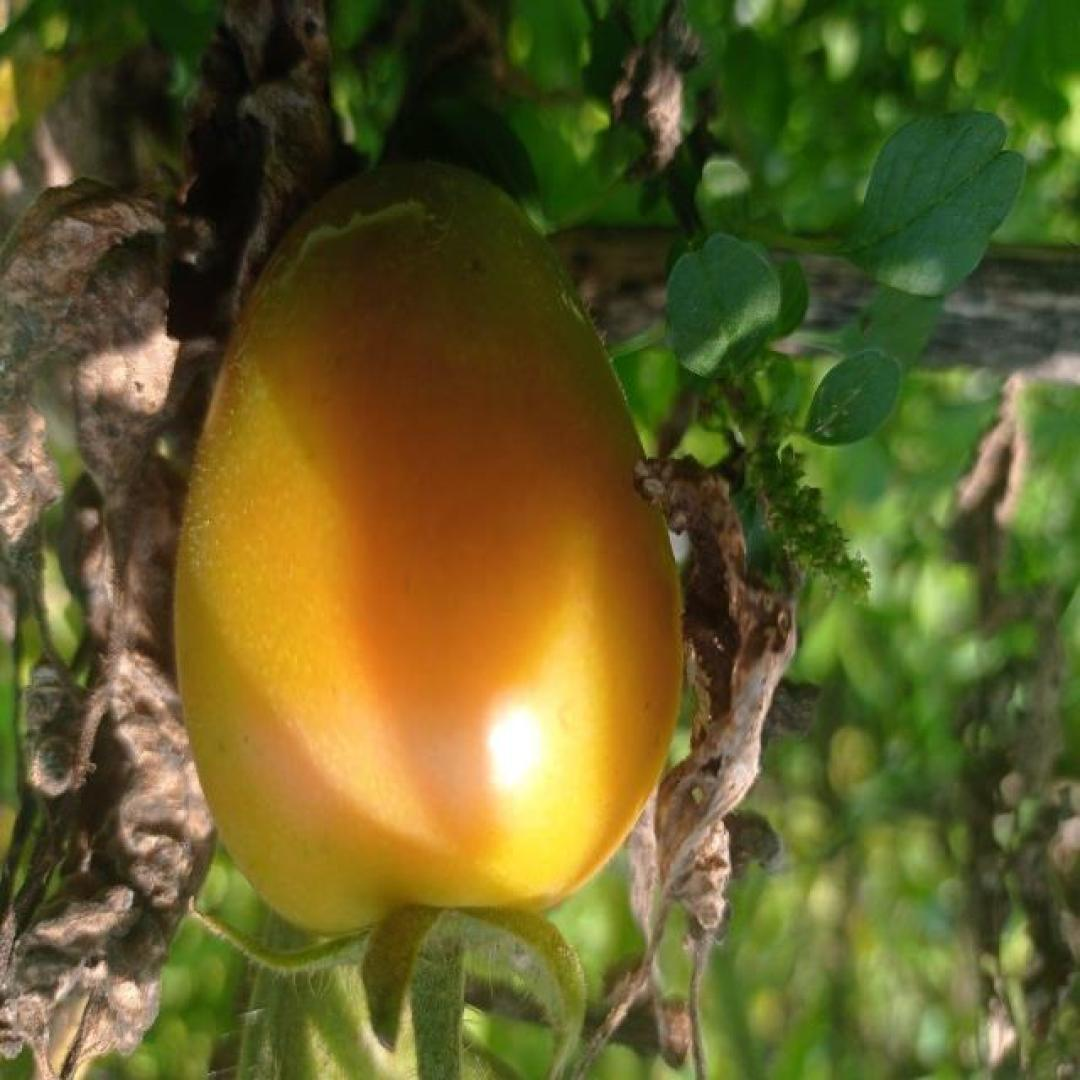setengah_matang: (170, 158, 687, 946)
